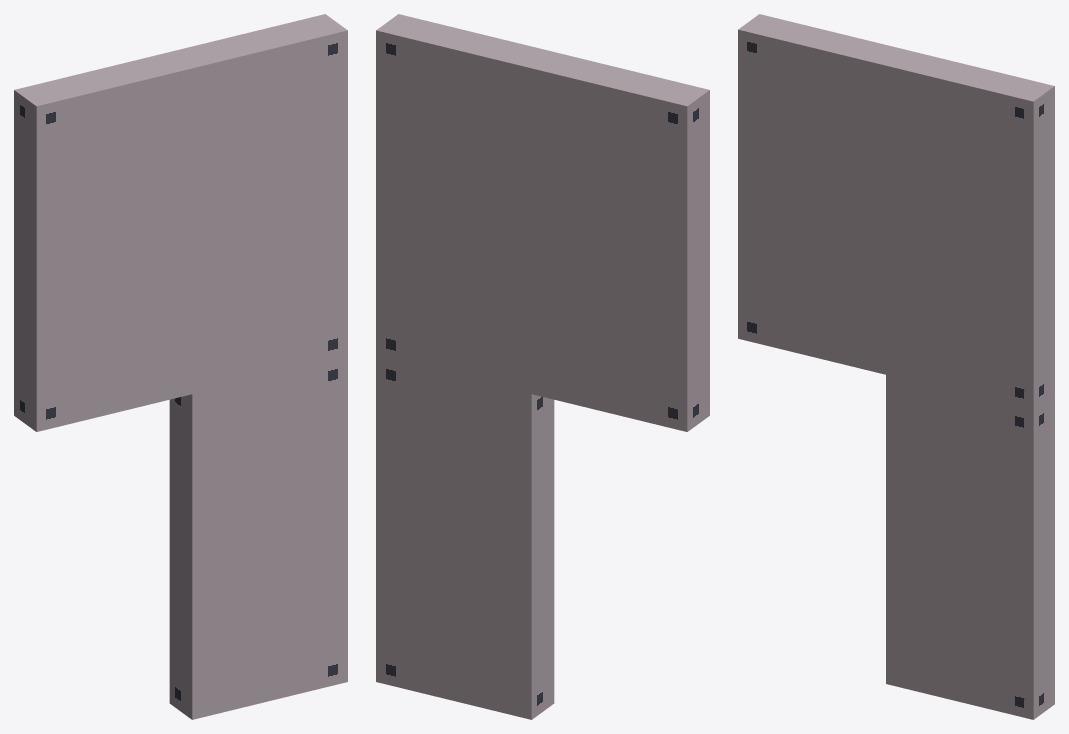
Rendered from wall_textured_c_2_doors_col.gltf.
3 views of the same model, side by side, from view 1: azimuth 30°, elevation 25°; view 2: azimuth 150°, elevation 25°; view 3: azimuth 330°, elevation 25° (orthographic). The views are drawn at different scales.
Parts seen in each view (by area): view 1: wall_textured_c_2_doors_col; view 2: wall_textured_c_2_doors_col; view 3: wall_textured_c_2_doors_col.
Boxes of the visible parts, box(x1,y1,x2,y2) form: wall_textured_c_2_doors_col: box(14, 14, 347, 719); wall_textured_c_2_doors_col: box(376, 14, 709, 719); wall_textured_c_2_doors_col: box(738, 14, 1054, 719).
Size of the model in its own units: 2 by 4 by 0.25.
Materials: 1 (1 with a texture image).
